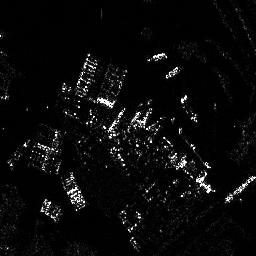ship: (224, 175, 255, 200), (146, 51, 167, 63), (164, 65, 181, 79)
